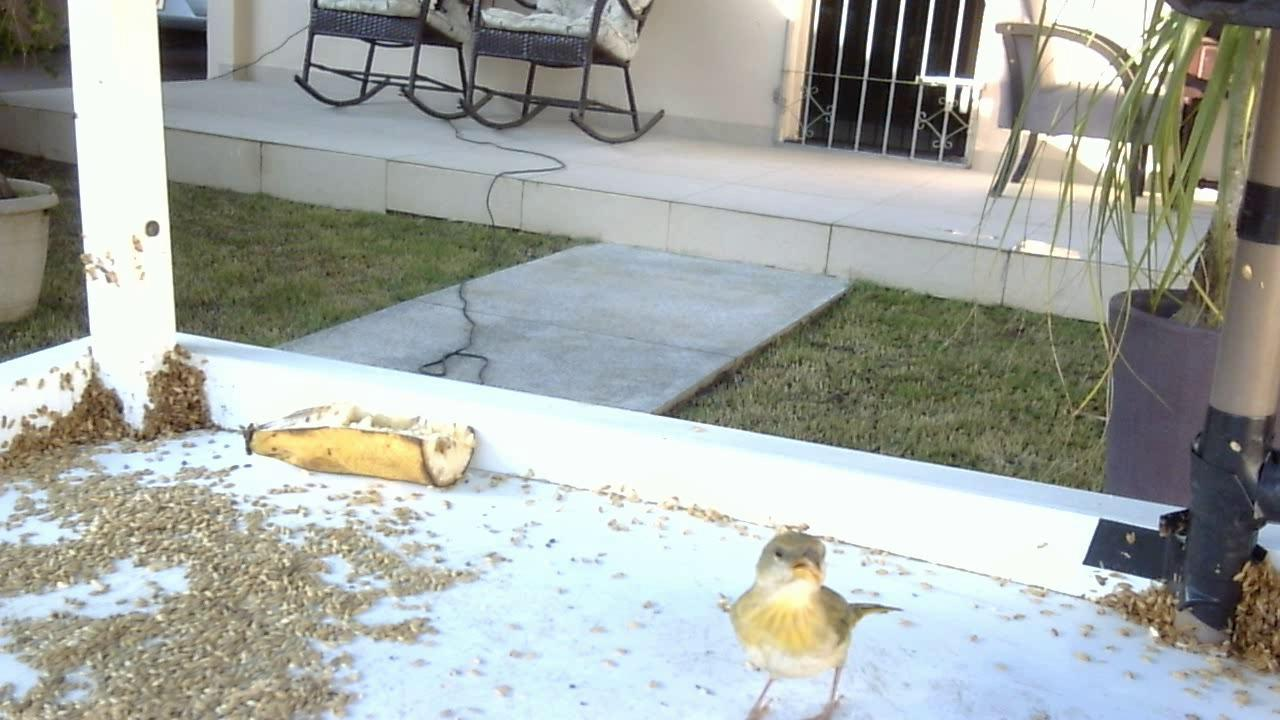canario_do_amazonas: (721, 521, 903, 720)
